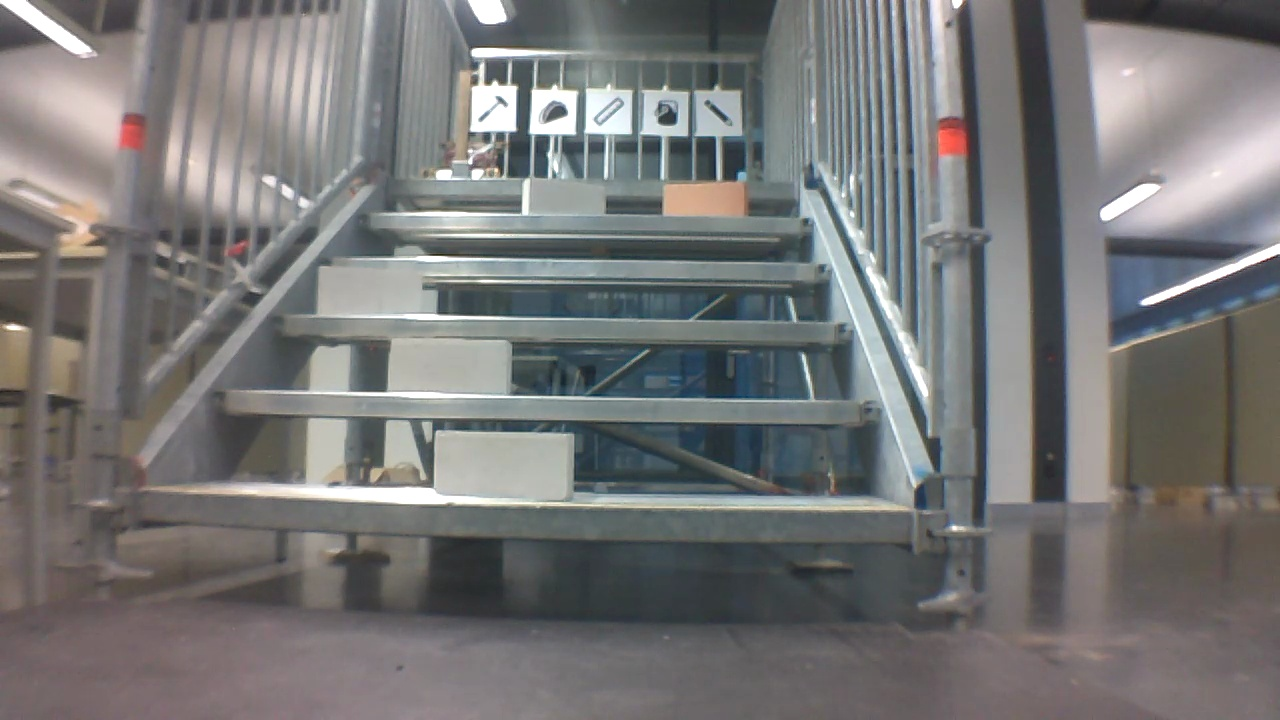brick: (433, 431, 570, 499), (392, 341, 513, 394), (320, 267, 420, 314), (524, 177, 605, 213), (664, 182, 746, 214)
bucket: (651, 96, 683, 129)
edge: (140, 491, 906, 542), (214, 390, 884, 424), (270, 315, 851, 343), (319, 257, 833, 284), (357, 211, 814, 233), (386, 178, 796, 198)
hammer: (473, 96, 510, 125)
pencil: (701, 94, 737, 129)
ruler: (587, 91, 628, 128)
stairs: (86, 7, 981, 635)
steps: (131, 171, 912, 557)
taco: (532, 95, 570, 126)
